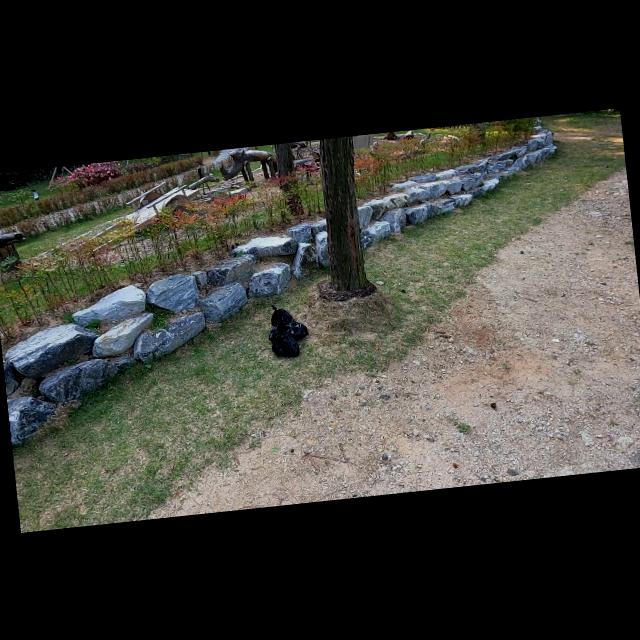trash: (266, 300, 297, 334), (272, 326, 300, 360), (280, 321, 314, 338)
